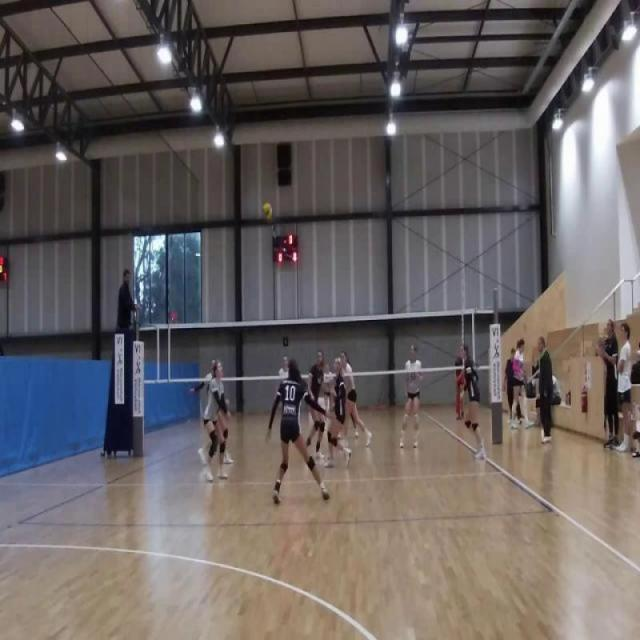volleyball: (260, 200, 275, 223)
